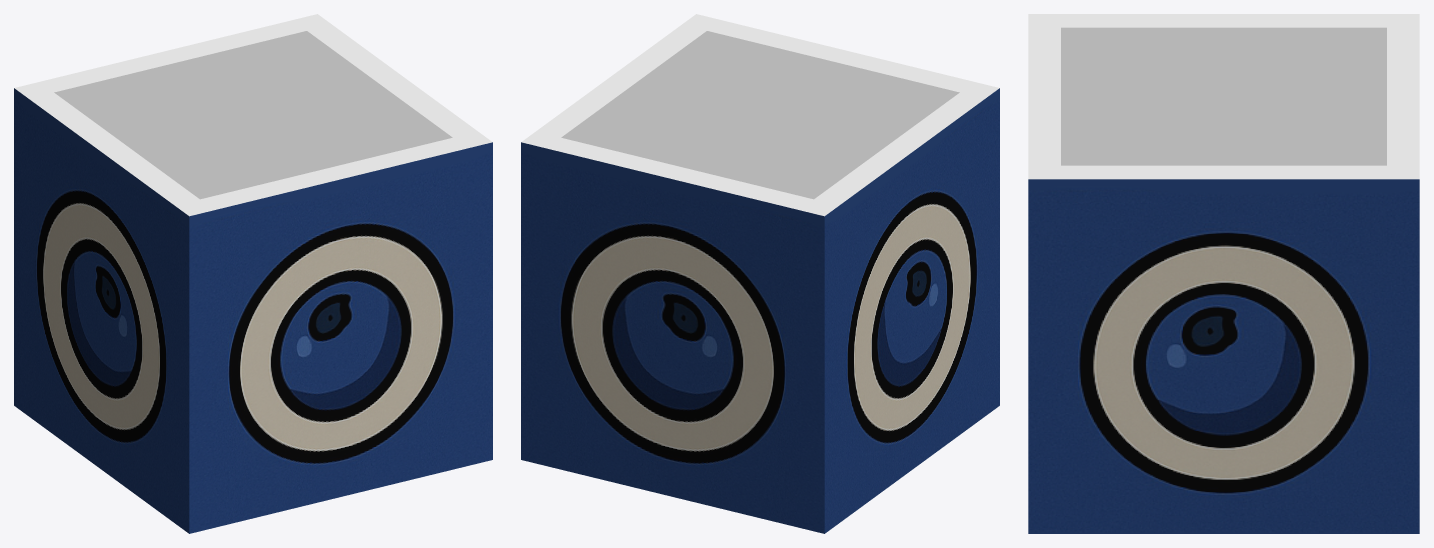
The model's file is box_blue.dae.
The picture shows the model from 3 angles, left to right: view 1: azimuth 30°, elevation 25°; view 2: azimuth 150°, elevation 25°; view 3: azimuth 270°, elevation 25°; orthographic projection. The views are drawn at different scales.
Visible parts, largest first — view 1: Cube; view 2: Cube; view 3: Cube.
Boxes of the visible parts, box(x1,y1,x2,y2) form: Cube: box(14, 14, 492, 533); Cube: box(521, 14, 999, 533); Cube: box(1028, 14, 1419, 533).
Size of the model in its own units: 0.06 by 0.06 by 0.06.
